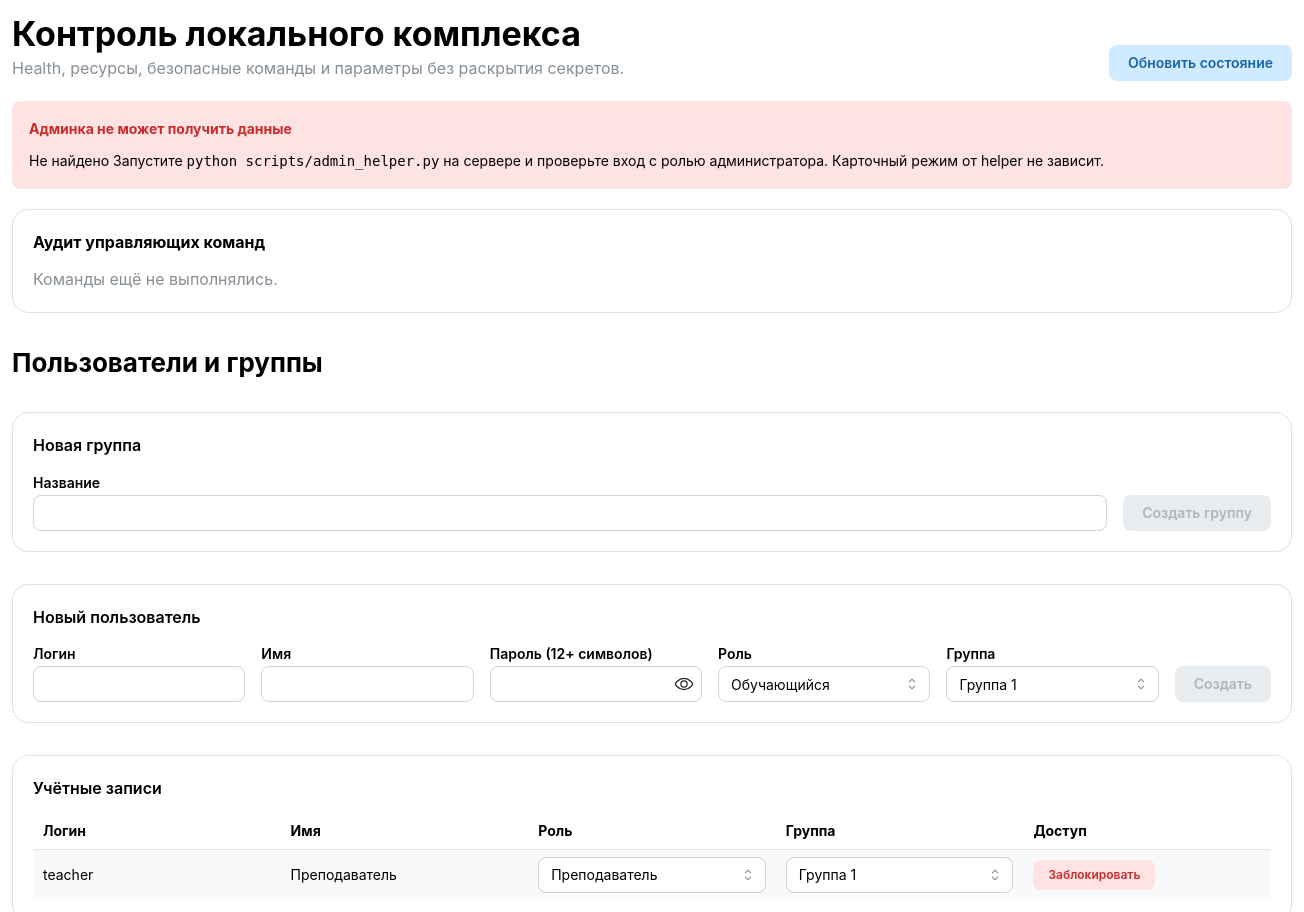
Scenario: admin user management › changes role, assigns a group and locks an account through implemented actions
Expected: the text "teacher" is shown, [33,849,281,900]
Click the dropdown named "Группа teacher" at (900,875), box [786,857,1013,893]
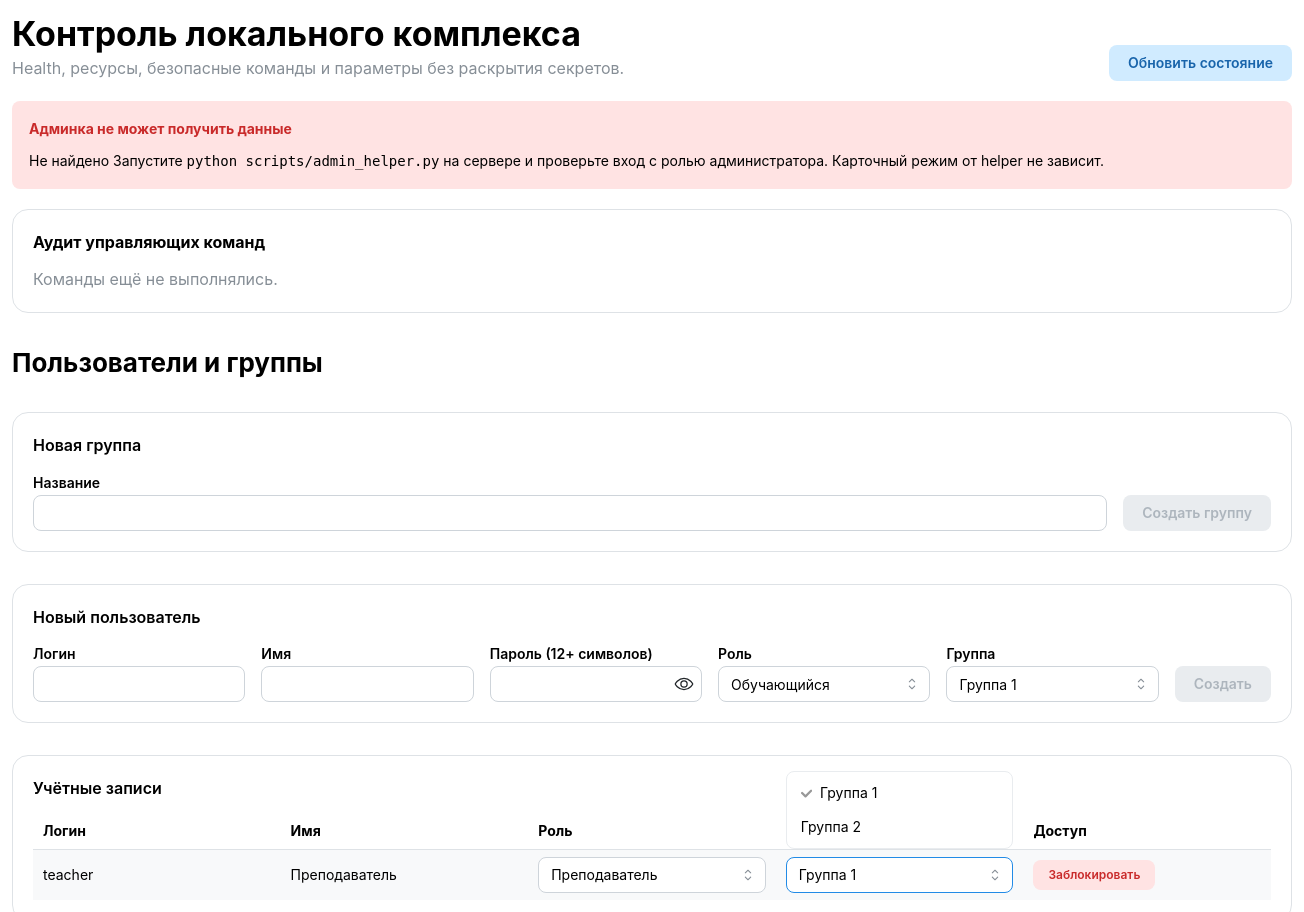
Press Arrowdown Enter
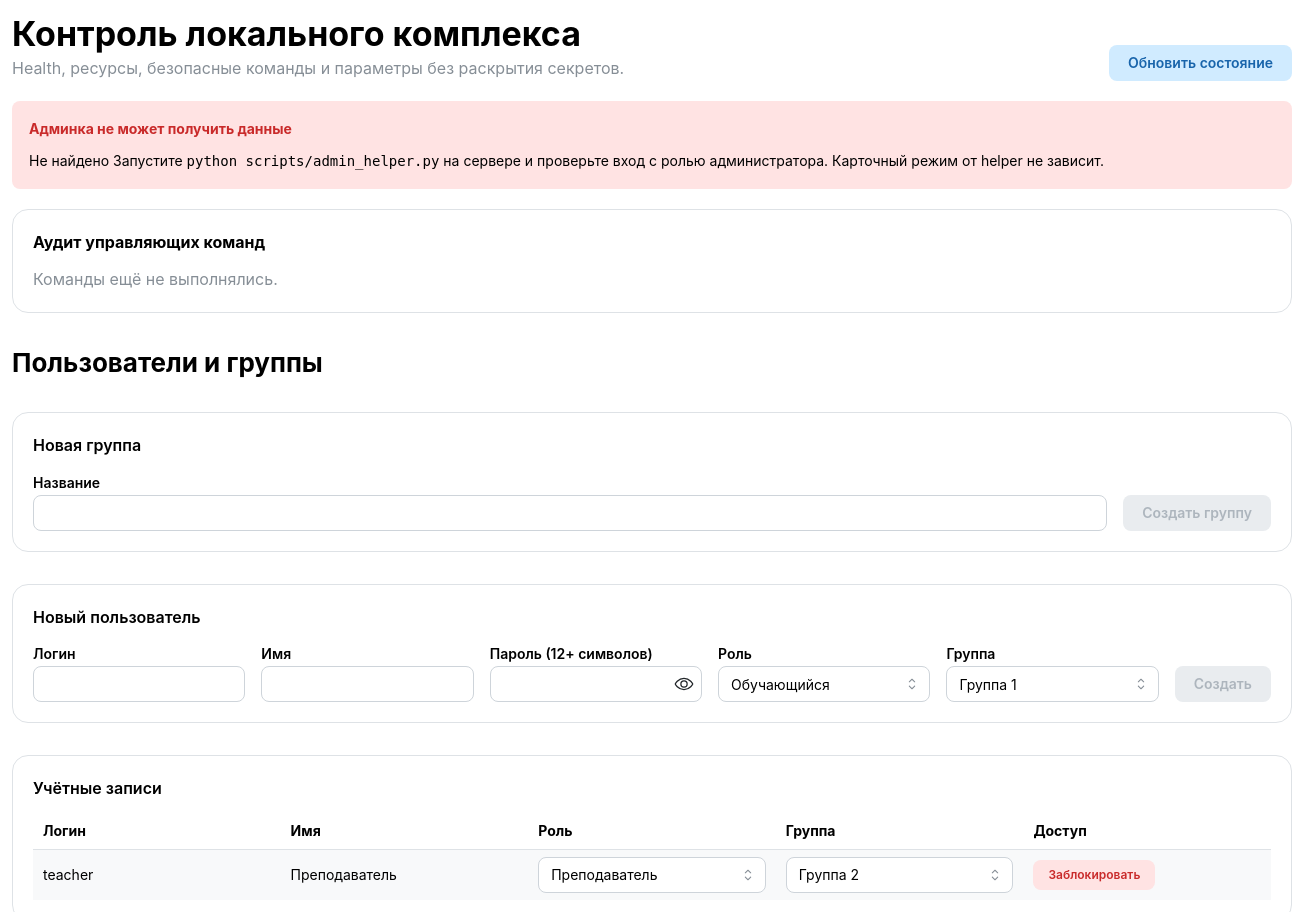
Click the dropdown named "Роль teacher" at (652,875), box [538,857,766,893]
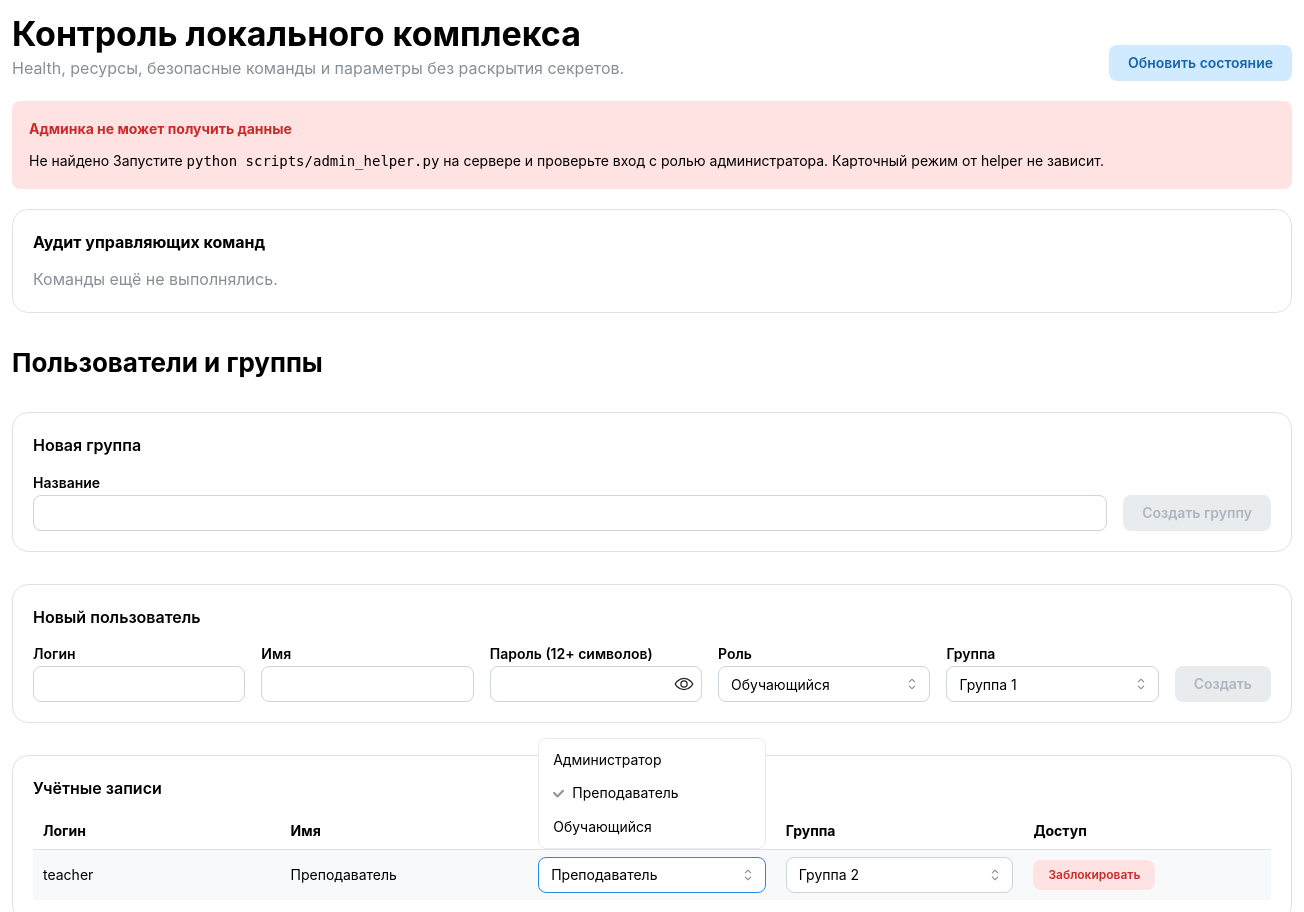
Press Arrowup Enter
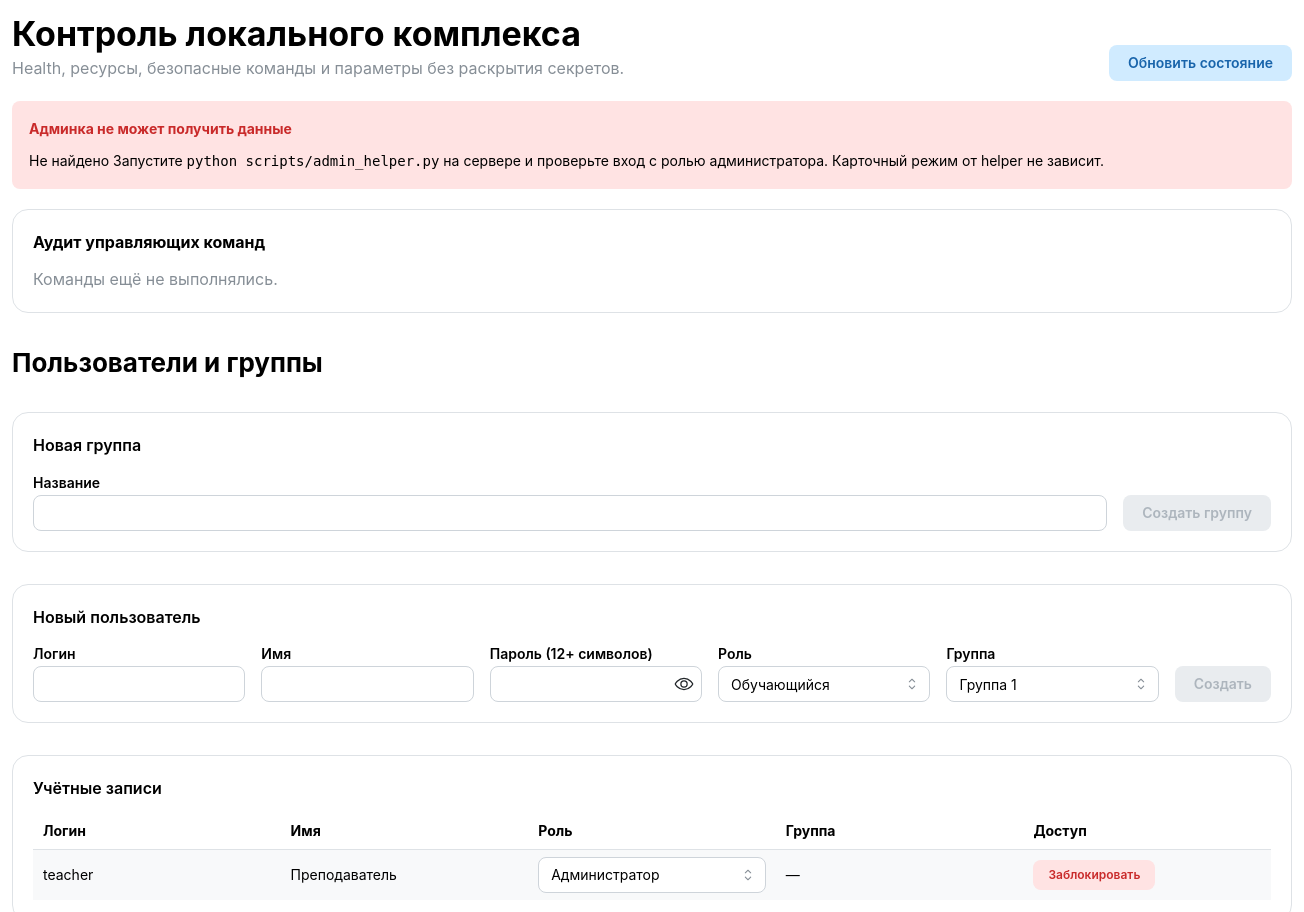
Click the button "Заблокировать" at (1094,875), box [1033,860,1155,890]
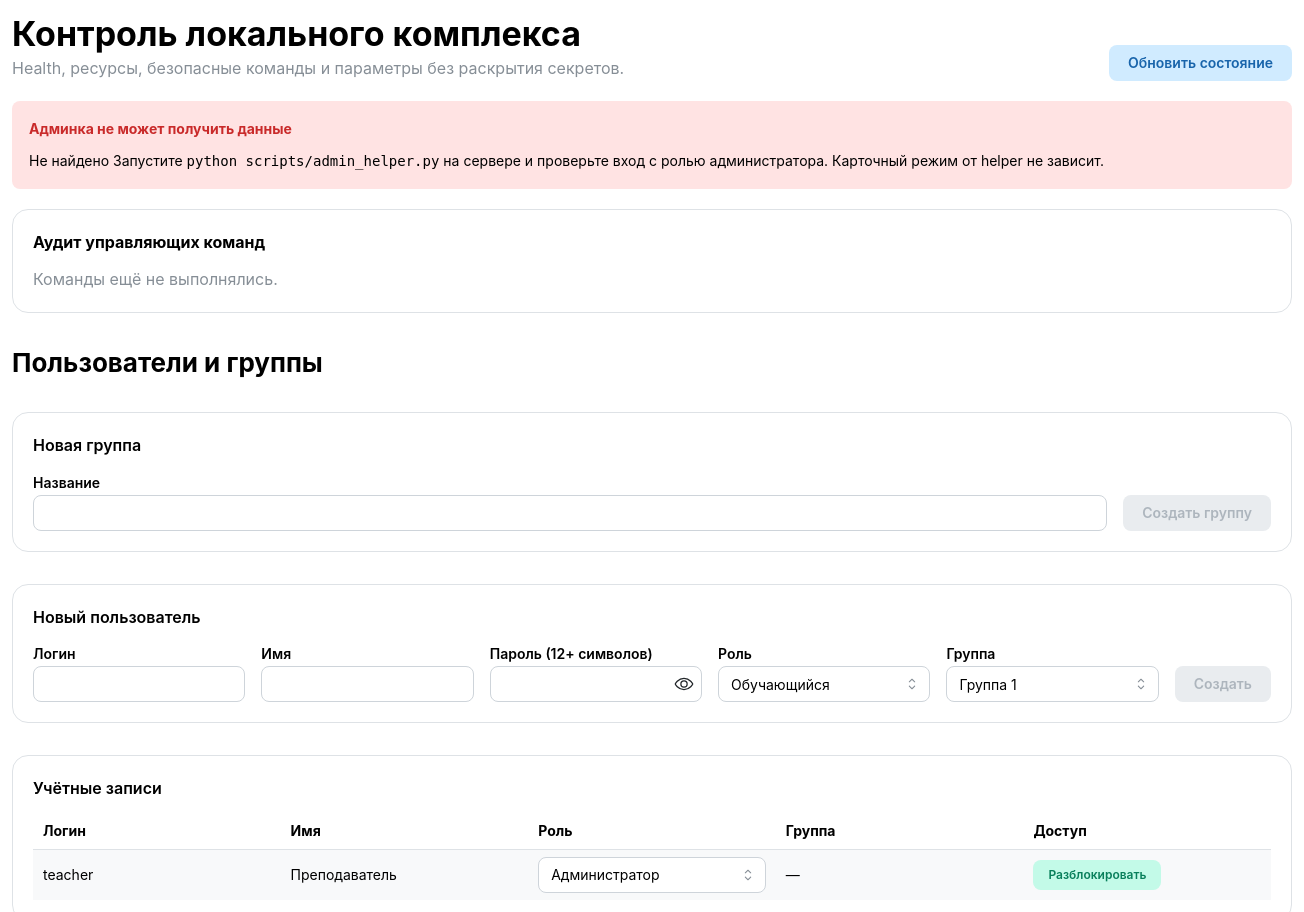
Now the button "Разблокировать" is shown, box [1033,860,1162,890]
